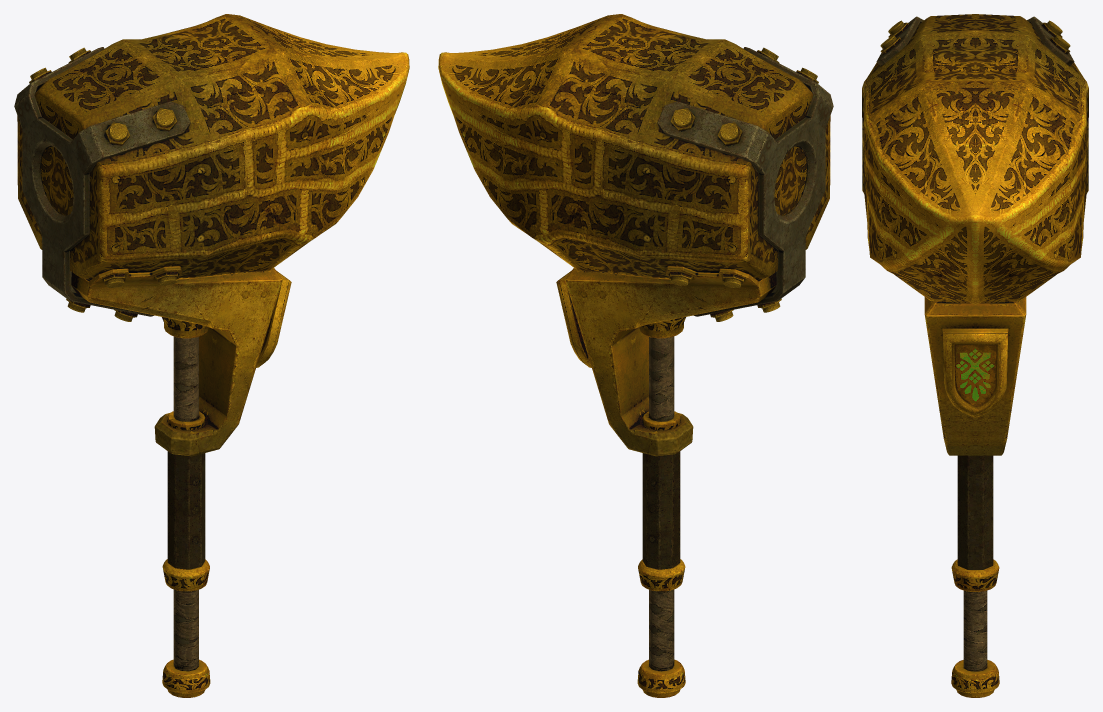
The model's file is bs_ham005.obj.
The picture shows the model from 3 angles, left to right: view 1: azimuth 30°, elevation 25°; view 2: azimuth 150°, elevation 25°; view 3: azimuth 270°, elevation 25°; orthographic projection.
Visible parts, largest first — view 1: bs_ham005_000_LOD_1; view 2: bs_ham005_000_LOD_1; view 3: bs_ham005_000_LOD_1.
Boxes of the visible parts, left/top/right/bottom form: bs_ham005_000_LOD_1: left=14, top=14, right=409, bottom=697; bs_ham005_000_LOD_1: left=438, top=14, right=833, bottom=697; bs_ham005_000_LOD_1: left=862, top=14, right=1088, bottom=697.
Size of the model in its own units: 97.64 by 169 by 54.26.
